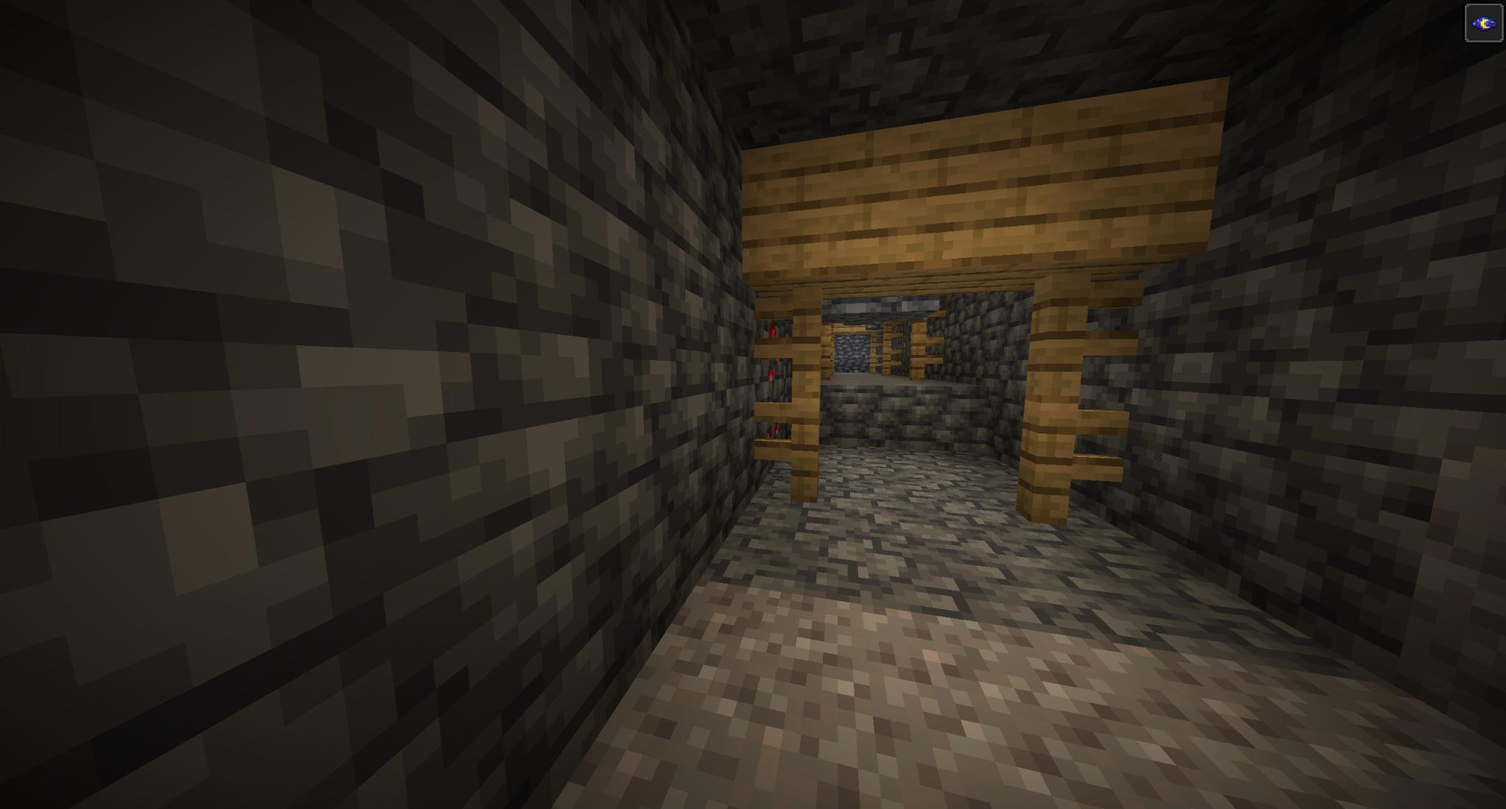redstone ore: (752, 320, 791, 470)
